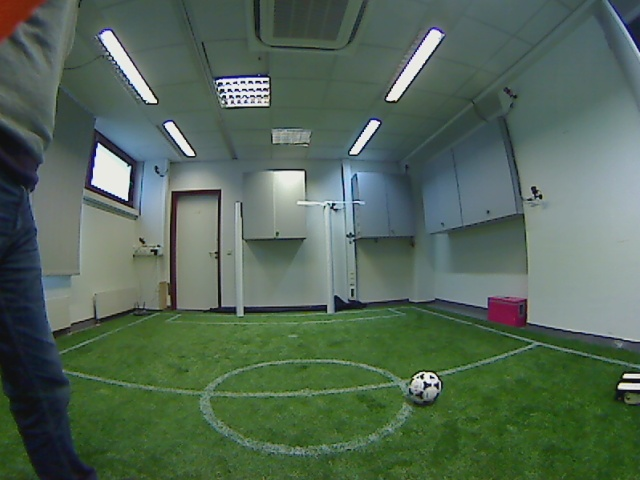ball: (401, 368, 446, 408)
